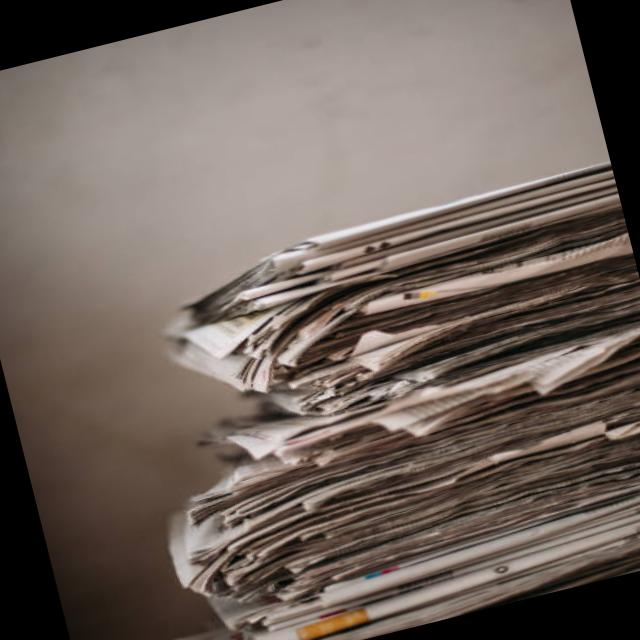electronic: (90, 157, 640, 640)
